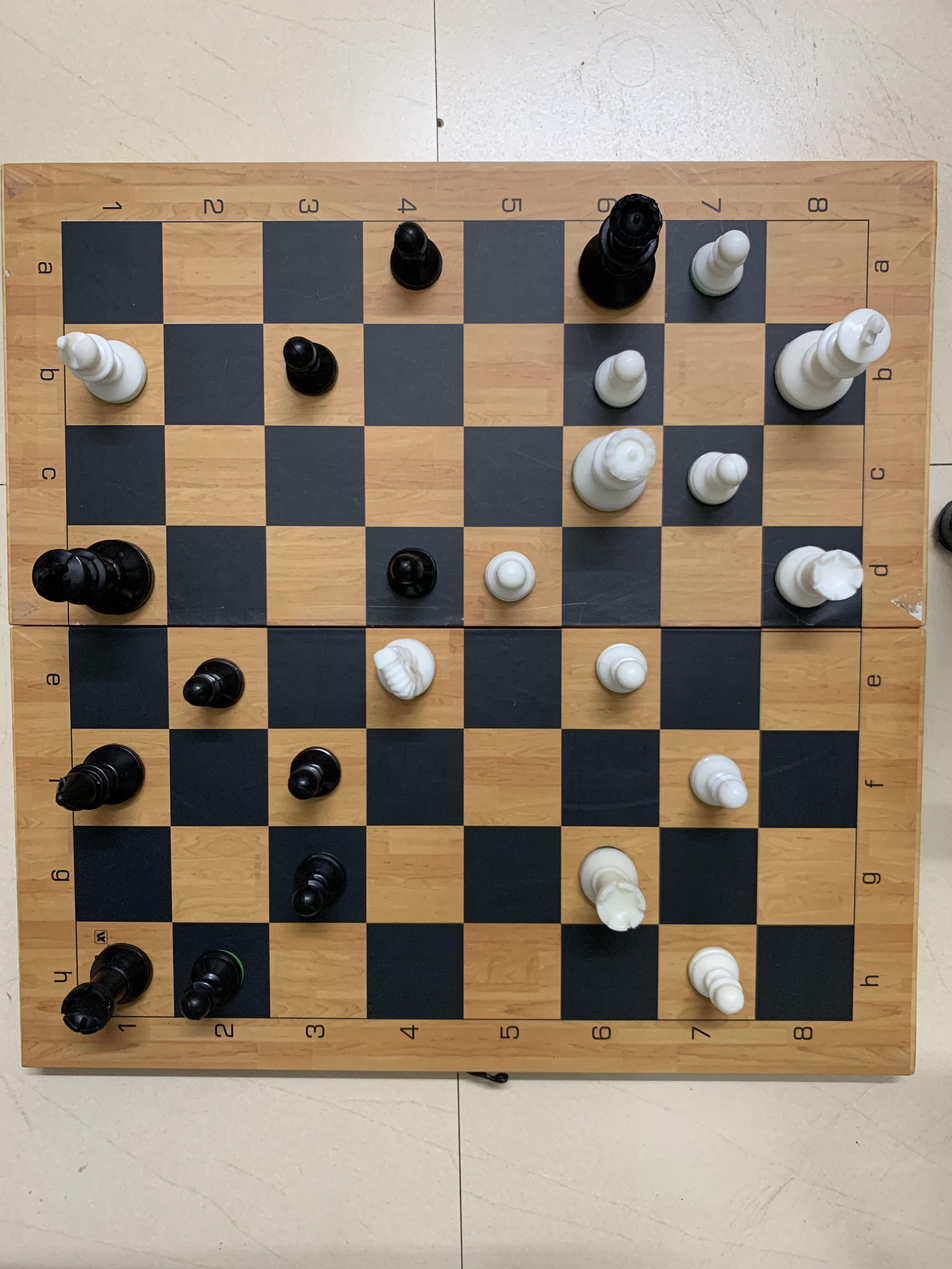black_bishop: (173, 927, 260, 1029)
black_king: (22, 523, 159, 630), (54, 732, 164, 814)
black_pawn: (367, 210, 468, 318), (266, 331, 362, 434), (269, 839, 371, 935), (272, 727, 366, 813), (167, 633, 252, 728), (368, 532, 450, 614)
black_rook: (50, 922, 169, 1048)
white_bishop: (49, 326, 159, 424)
white_king: (765, 304, 898, 416)
white_knight: (368, 612, 453, 726)
white_pawn: (469, 524, 560, 633), (675, 214, 769, 317), (568, 630, 655, 728), (663, 735, 754, 827), (669, 935, 759, 1023), (578, 329, 667, 414), (683, 431, 760, 516)
white_queen: (568, 424, 671, 532)
white_rook: (570, 828, 672, 931), (760, 534, 868, 619)
